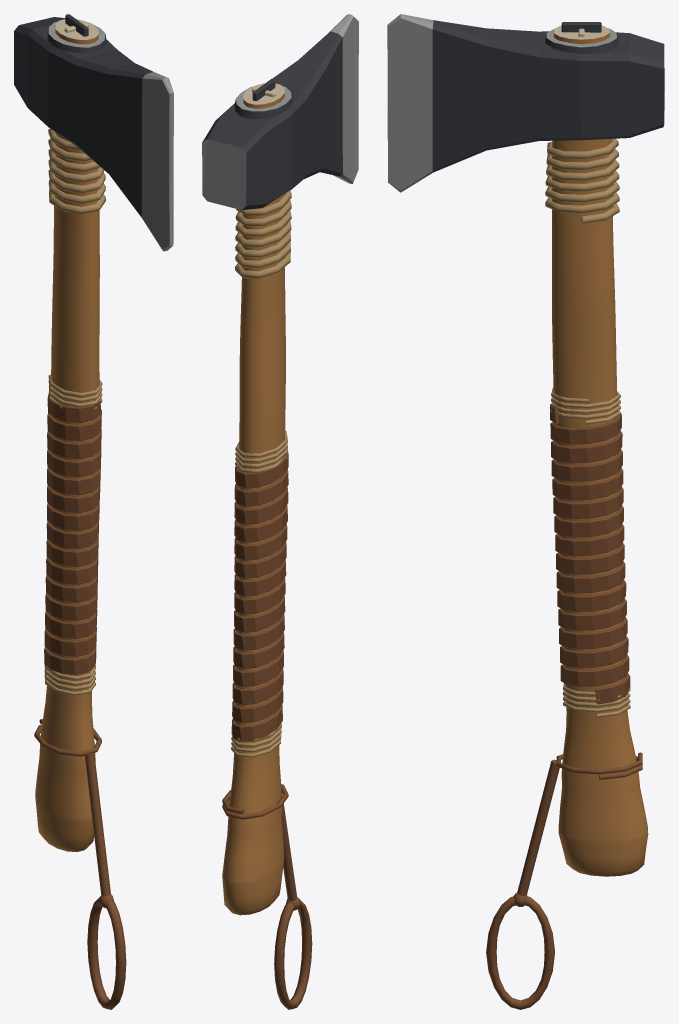
File: tool_handaxe.fbx
3 views of the same model, side by side, from view 1: azimuth 30°, elevation 25°; view 2: azimuth 150°, elevation 25°; view 3: azimuth 270°, elevation 25° (orthographic). The views are drawn at different scales.
Parts seen in each view (by area): view 1: Tool_HandAxe_Head, Tool_HandAxe_Haft, Tool_HandAxe_Grip, Tool_HandAxe_Thong; view 2: Tool_HandAxe_Haft, Tool_HandAxe_Grip, Tool_HandAxe_Head, Tool_HandAxe_Thong; view 3: Tool_HandAxe_Head, Tool_HandAxe_Haft, Tool_HandAxe_Grip, Tool_HandAxe_Thong.
Boxes of the visible parts, <box> form: Tool_HandAxe_Head: <box>14,17,173,251</box>; Tool_HandAxe_Haft: <box>35,19,99,851</box>; Tool_HandAxe_Grip: <box>44,128,105,695</box>; Tool_HandAxe_Thong: <box>34,719,126,1009</box>; Tool_HandAxe_Haft: <box>222,83,285,915</box>; Tool_HandAxe_Grip: <box>231,190,291,757</box>; Tool_HandAxe_Head: <box>202,14,358,209</box>; Tool_HandAxe_Thong: <box>222,784,312,1009</box>; Tool_HandAxe_Head: <box>387,14,664,192</box>; Tool_HandAxe_Haft: <box>551,25,648,876</box>; Tool_HandAxe_Grip: <box>545,138,630,717</box>; Tool_HandAxe_Thong: <box>486,752,642,1009</box>.
Size of the model in its own units: 5.03 by 82.69 by 20.87.
